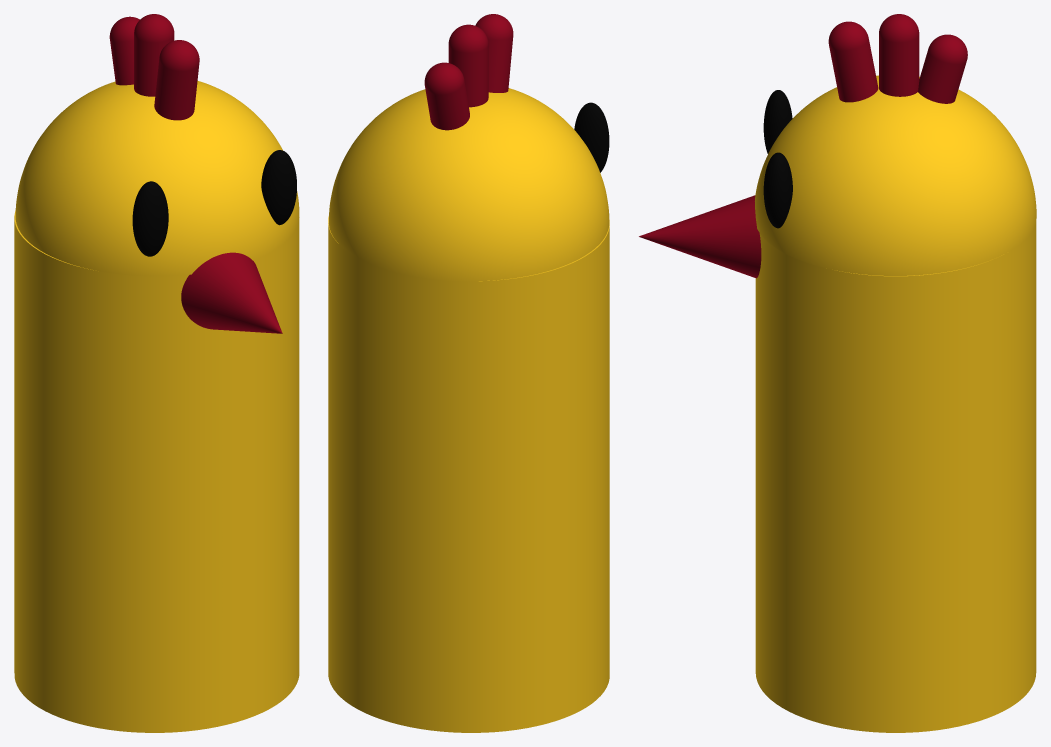
Rendered from Chicken.fbx.
3 renders of one model, left to right at view 1: azimuth 30°, elevation 25°; view 2: azimuth 150°, elevation 25°; view 3: azimuth 270°, elevation 25°, orthographic.
Parts seen in each view (by area): view 1: node_id5, node_id7, node_id13, node_id19, node_id15, node_id9, node_id11, node_id17; view 2: node_id5, node_id7, node_id15, node_id17, node_id19, node_id9; view 3: node_id5, node_id7, node_id13, node_id15, node_id19, node_id17, node_id11, node_id9.
Part boxes in pixels (x1,y1,x2,y2): node_id5: (14, 210, 299, 732); node_id7: (15, 81, 299, 276); node_id13: (181, 252, 282, 333); node_id19: (154, 40, 199, 120); node_id15: (134, 14, 174, 96); node_id9: (132, 181, 168, 256); node_id11: (261, 150, 296, 225); node_id17: (109, 16, 139, 85); node_id5: (328, 216, 609, 732); node_id7: (328, 88, 609, 281); node_id15: (448, 24, 488, 107); node_id17: (424, 62, 469, 130); node_id19: (475, 14, 513, 92); node_id9: (574, 102, 609, 172); node_id5: (755, 221, 1036, 732); node_id7: (755, 75, 1036, 275); node_id13: (639, 195, 761, 278); node_id15: (879, 14, 919, 96); node_id19: (828, 21, 878, 102); node_id17: (918, 34, 967, 103); node_id11: (763, 152, 792, 228); node_id9: (763, 90, 792, 153).
Size of the model in its own units: 0.2026 by 0.512 by 0.2819.
Materials: 8 (8 with a texture image).
